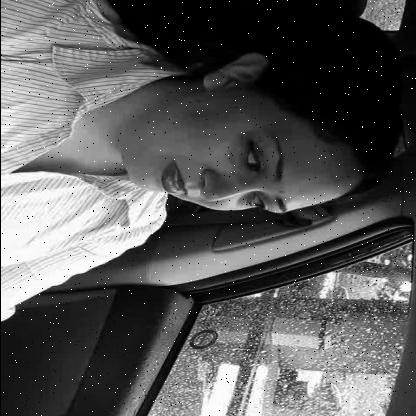no_seatbelt: (0, 28, 414, 239)
